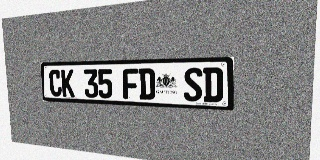3: (84, 69, 98, 98)
5: (98, 69, 113, 98)
C: (49, 70, 62, 97)
D: (203, 67, 223, 102), (138, 68, 155, 100)
F: (122, 68, 139, 99)
K: (61, 69, 75, 97)
S: (184, 67, 202, 102)
